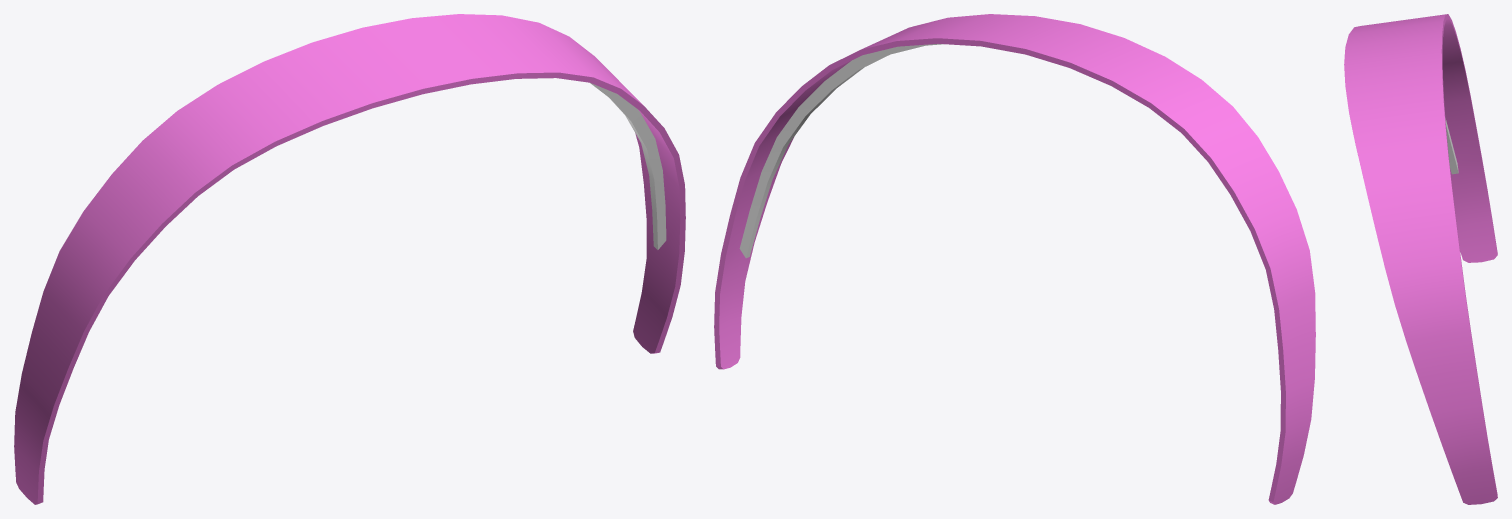
3 views of the same model, side by side, from view 1: azimuth 30°, elevation 25°; view 2: azimuth 150°, elevation 25°; view 3: azimuth 270°, elevation 25° (orthographic). The views are drawn at different scales.
Parts seen in each view (by area): view 1: hair_band; view 2: hair_band; view 3: hair_band.
Boxes of the visible parts, x1=… form: hair_band: x1=14, y1=14, x2=685, y2=504; hair_band: x1=714, y1=14, x2=1315, y2=504; hair_band: x1=1344, y1=14, x2=1497, y2=504.
Bounding box in the file's own units: 2.28 × 1.41 × 0.5919.
